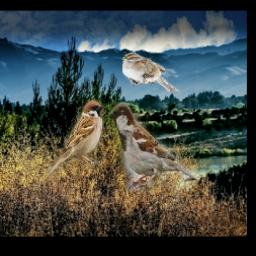Sparrow: (108, 102, 196, 191), (48, 101, 103, 177), (121, 53, 179, 93)
